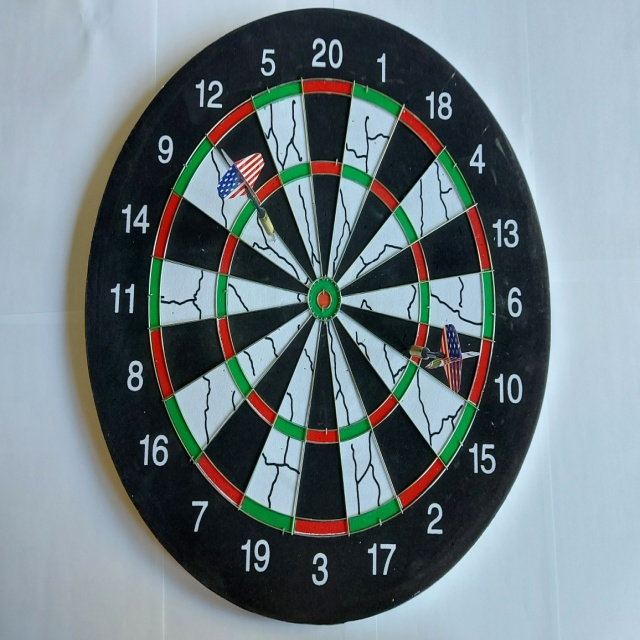Dart: (211, 144, 288, 250), (400, 319, 484, 398)
